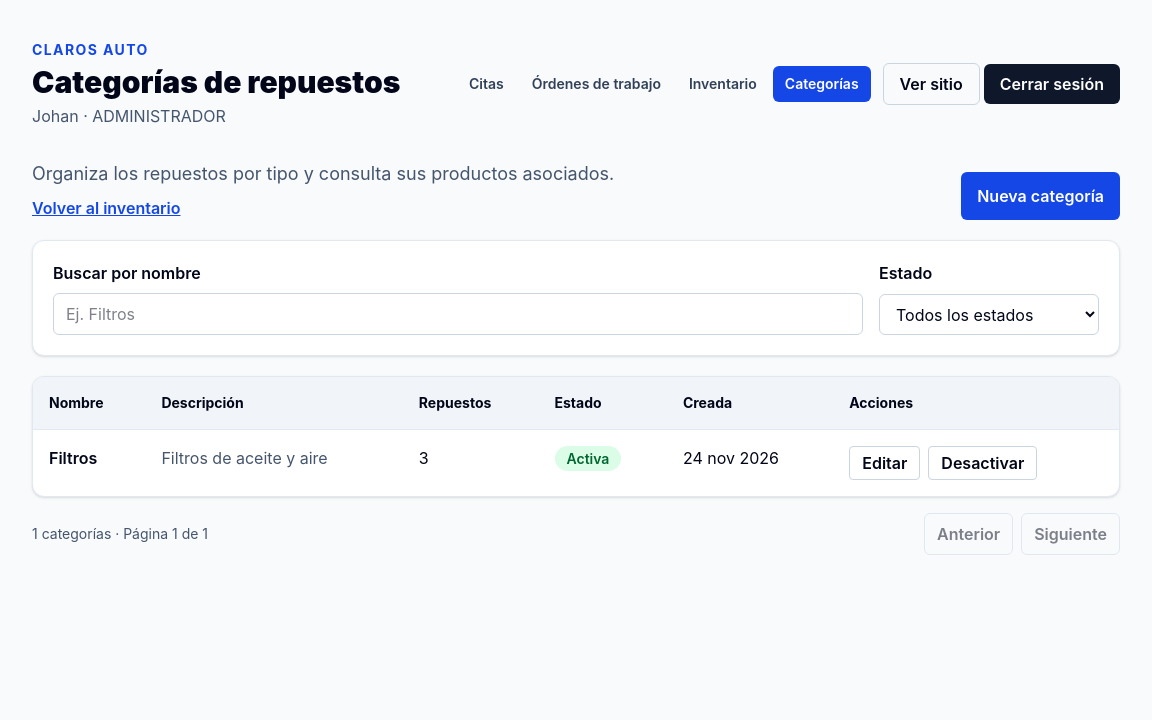
it: página de categorías de repuestos › solicita confirmación y muestra errores al desactivar categorías con repuestos
Click the button "Desactivar" at (983, 463), box top-left (928, 446), bottom-right (1037, 480)
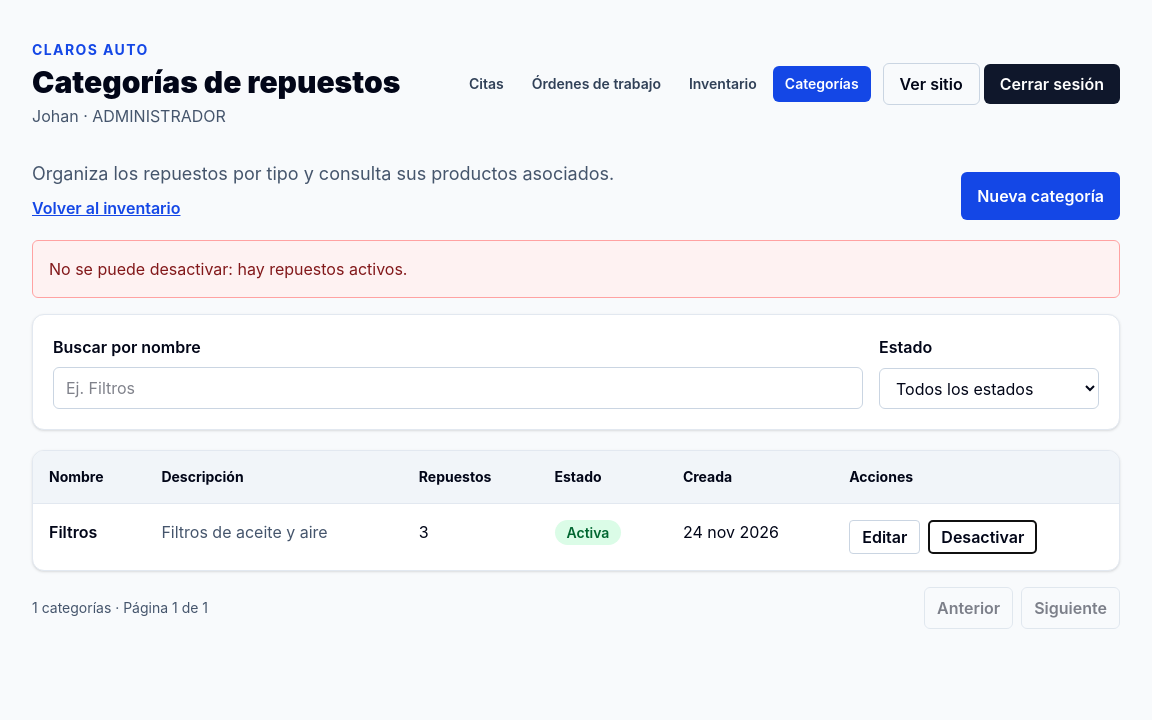
Now the message reads "No se puede desactivar: hay repuestos activos.", box top-left (49, 259), bottom-right (408, 279)
